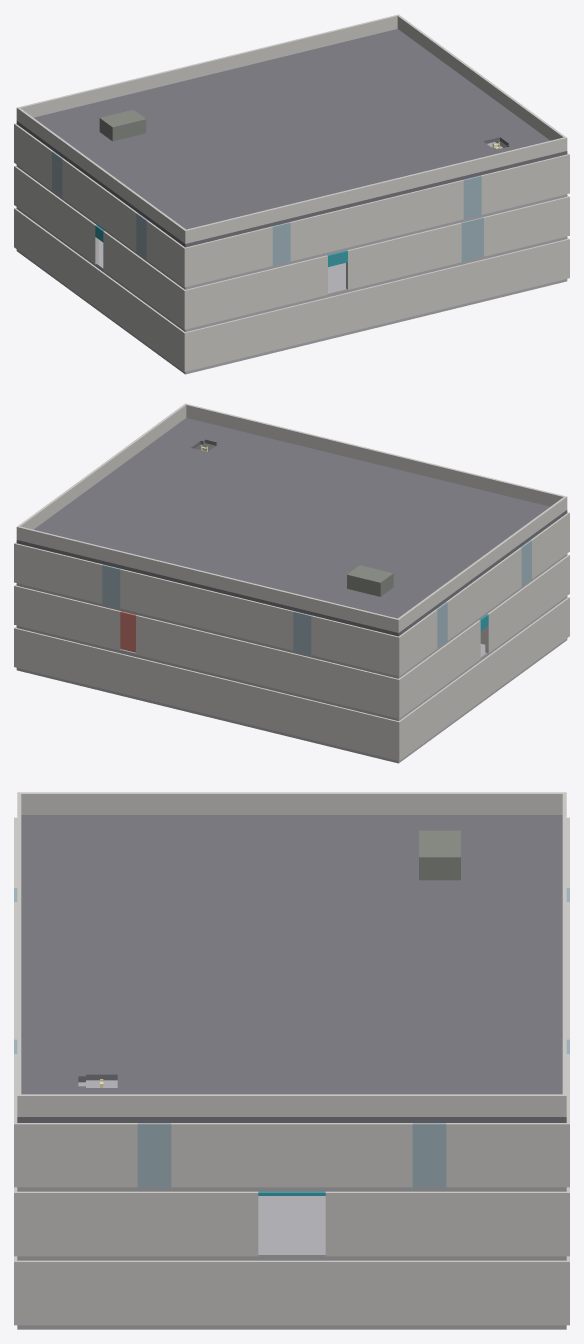
The model's file is pvp_station_ref.glb.
3 renders of one model, top to bottom at view 1: azimuth 30°, elevation 25°; view 2: azimuth 150°, elevation 25°; view 3: azimuth 270°, elevation 25°, orthographic. The views are drawn at different scales.
Visible parts, largest first — view 1: slab_2_t1_3, slab_2_t3_3, slab_2_t4_4, slab_2_t1_2, slab_2_t3_4, slab_2_t1_1, slab_2_t1_5, slab_2_t2_1, slab_2_t2_2, slab_2_t2_4, slab_2_t2_5, slab_2_t3_1 (+131 smaller); view 2: slab_2_t1_1, slab_2_t1_4, slab_2_t2_3, slab_2_t4_3, slab_2_t2_4, slab_2_t4_2, slab_2_t1_5, slab_2_t2_1, slab_2_t3_2, slab_2_t3_4, slab_2_t3_5, slab_2_t4_5 (+133 smaller); view 3: slab_2_t1_3, slab_2_t1_5, slab_2_t4_3, slab_2_t4_5, slab_2_t1_1, slab_2_t1_2, slab_2_t1_4, slab_2_t4_2, slab_2_t4_4, slab_2_t2_1, slab_2_t2_2, slab_2_t2_3 (+86 smaller).
Part boxes in pixels (x1=…): slab_2_t1_3: x1=293, y1=149, x2=374, y2=183; slab_2_t3_3: x1=237, y1=108, x2=318, y2=142; slab_2_t4_4: x1=263, y1=74, x2=345, y2=108; slab_2_t1_2: x1=238, y1=163, x2=320, y2=196; slab_2_t3_4: x1=291, y1=95, x2=373, y2=128; slab_2_t1_1: x1=184, y1=176, x2=265, y2=209; slab_2_t1_5: x1=402, y1=123, x2=484, y2=156; slab_2_t2_1: x1=156, y1=156, x2=237, y2=189; slab_2_t2_2: x1=210, y1=142, x2=292, y2=176; slab_2_t2_4: x1=319, y1=115, x2=401, y2=149; slab_2_t2_5: x1=374, y1=102, x2=455, y2=136; slab_2_t3_1: x1=128, y1=135, x2=209, y2=168; slab_2_t1_1: x1=402, y1=503, x2=484, y2=537; slab_2_t1_4: x1=238, y1=463, x2=320, y2=497; slab_2_t2_3: x1=265, y1=497, x2=346, y2=531; slab_2_t4_3: x1=209, y1=538, x2=290, y2=572; slab_2_t2_4: x1=210, y1=484, x2=292, y2=517; slab_2_t4_2: x1=263, y1=552, x2=345, y2=585; slab_2_t1_5: x1=184, y1=450, x2=265, y2=483; slab_2_t2_1: x1=374, y1=524, x2=455, y2=557; slab_2_t3_2: x1=291, y1=531, x2=373, y2=565; slab_2_t3_4: x1=182, y1=504, x2=264, y2=538; slab_2_t3_5: x1=128, y1=491, x2=209, y2=525; slab_2_t4_5: x1=99, y1=512, x2=181, y2=545; slab_2_t1_3: x1=108, y1=943, x2=200, y2=986; slab_2_t1_5: x1=108, y1=1030, x2=200, y2=1073; slab_2_t4_3: x1=383, y1=943, x2=475, y2=986; slab_2_t4_5: x1=383, y1=1030, x2=475, y2=1073; slab_2_t1_1: x1=108, y1=856, x2=200, y2=899; slab_2_t1_2: x1=108, y1=900, x2=200, y2=943; slab_2_t1_4: x1=108, y1=987, x2=200, y2=1030; slab_2_t4_2: x1=383, y1=900, x2=475, y2=943; slab_2_t4_4: x1=383, y1=987, x2=475, y2=1030; slab_2_t2_1: x1=200, y1=856, x2=291, y2=899; slab_2_t2_2: x1=200, y1=900, x2=291, y2=943; slab_2_t2_3: x1=200, y1=943, x2=291, y2=986.
Size of what is drawn, in the model's own units: 34.3 by 12.3 by 26.3.
